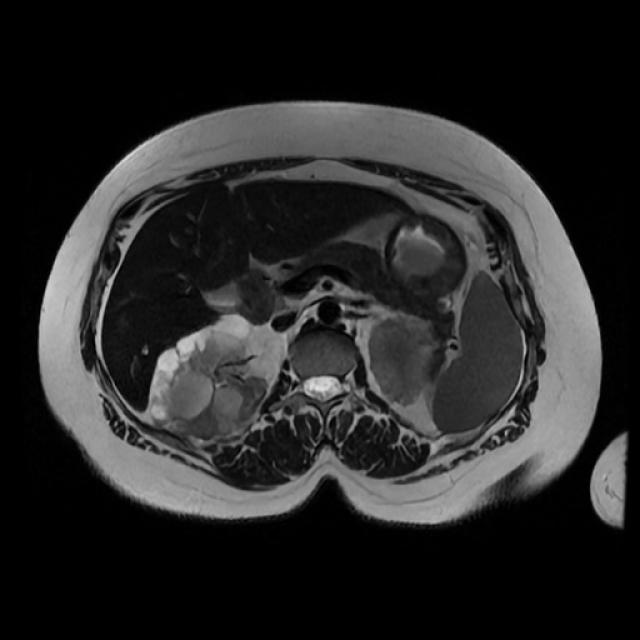sag: (153, 313, 269, 439)
sol: (369, 314, 440, 404)
